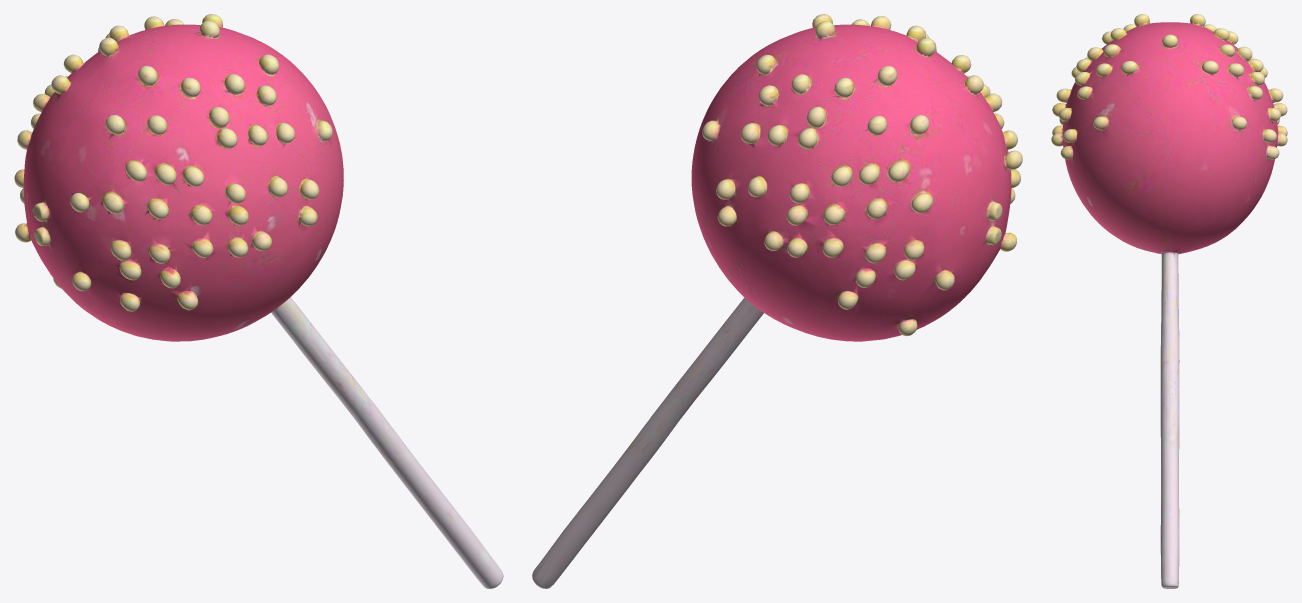
3 views of the same model, side by side, from view 1: azimuth 30°, elevation 25°; view 2: azimuth 150°, elevation 25°; view 3: azimuth 270°, elevation 25° (orthographic). The views are drawn at different scales.
Size of the model in its own units: 1.46 by 1.9 by 0.8928.
Materials: 1 (1 with a texture image).
